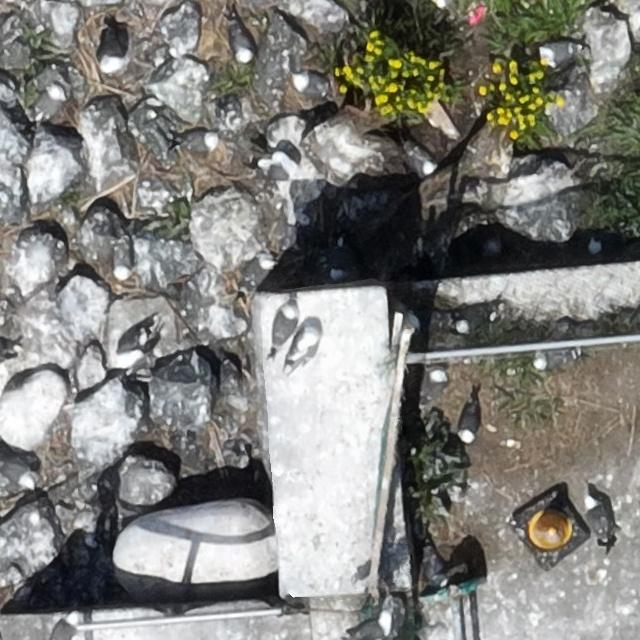umineko: (282, 326, 320, 377), (268, 301, 299, 352), (98, 22, 128, 74), (583, 494, 612, 546), (586, 234, 639, 259), (346, 613, 394, 639), (0, 461, 35, 494), (532, 350, 584, 372), (329, 239, 351, 284), (244, 256, 275, 286), (37, 86, 63, 118), (114, 239, 132, 281), (542, 42, 576, 63), (421, 371, 444, 402), (294, 75, 326, 97), (182, 131, 218, 150), (232, 28, 252, 62), (52, 613, 77, 640), (461, 403, 479, 439), (409, 150, 434, 175), (458, 313, 486, 331)
